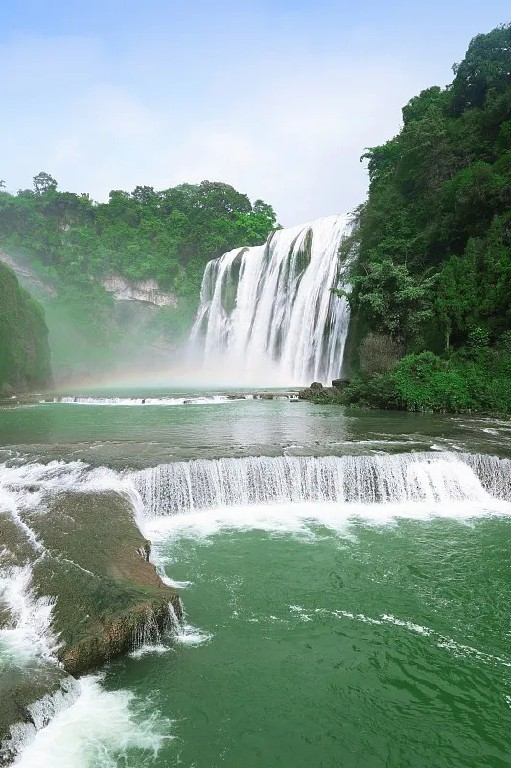Huangguoshu: (182, 213, 355, 389)
